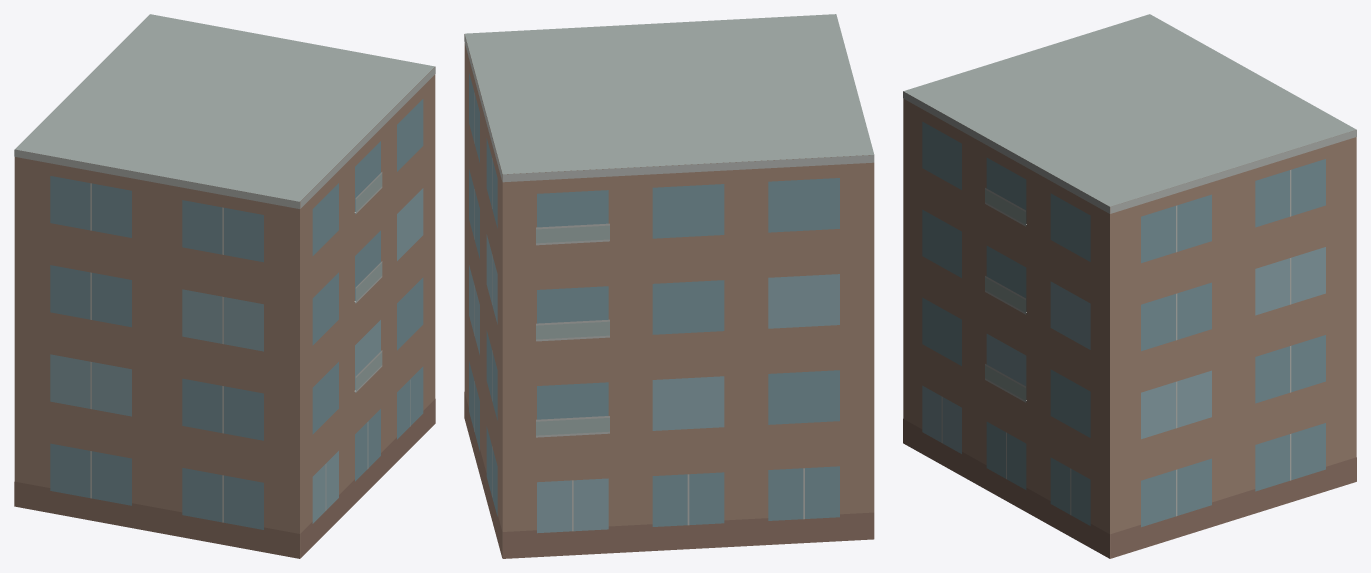
Rendered from survey-upis-32671053.glb.
3 views of the same model, side by side, from view 1: azimuth 30°, elevation 25°; view 2: azimuth 150°, elevation 25°; view 3: azimuth 270°, elevation 25° (orthographic). The views are drawn at different scales.
Visible parts, largest first — view 1: survey-upis-32671053.tmp; view 2: survey-upis-32671053.tmp; view 3: survey-upis-32671053.tmp.
Part boxes in pixels (box(x1,y1,x2,y2)): survey-upis-32671053.tmp: box(14, 14, 435, 558); survey-upis-32671053.tmp: box(464, 14, 874, 558); survey-upis-32671053.tmp: box(903, 14, 1356, 558).
Size of the model in its own units: 13.93 by 11.85 by 13.84.
